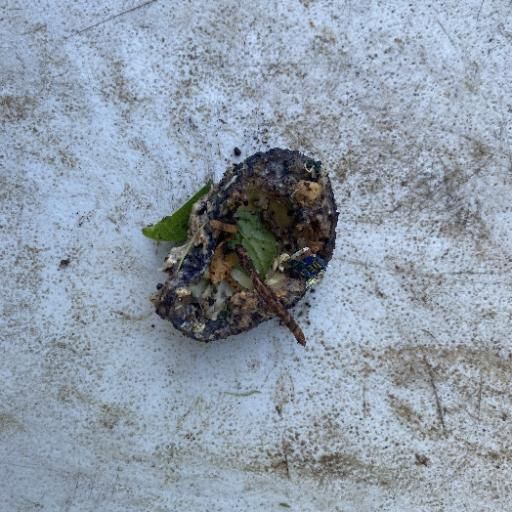Waste: (146, 145, 340, 347)
